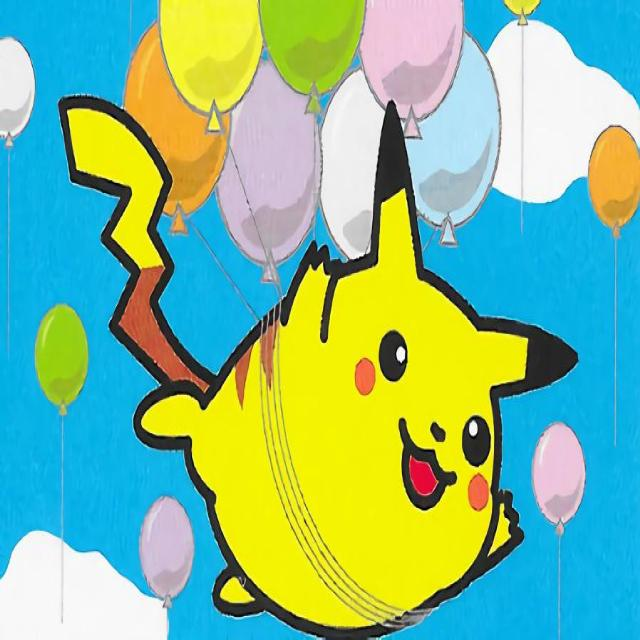pikachu: (57, 102, 580, 638)
